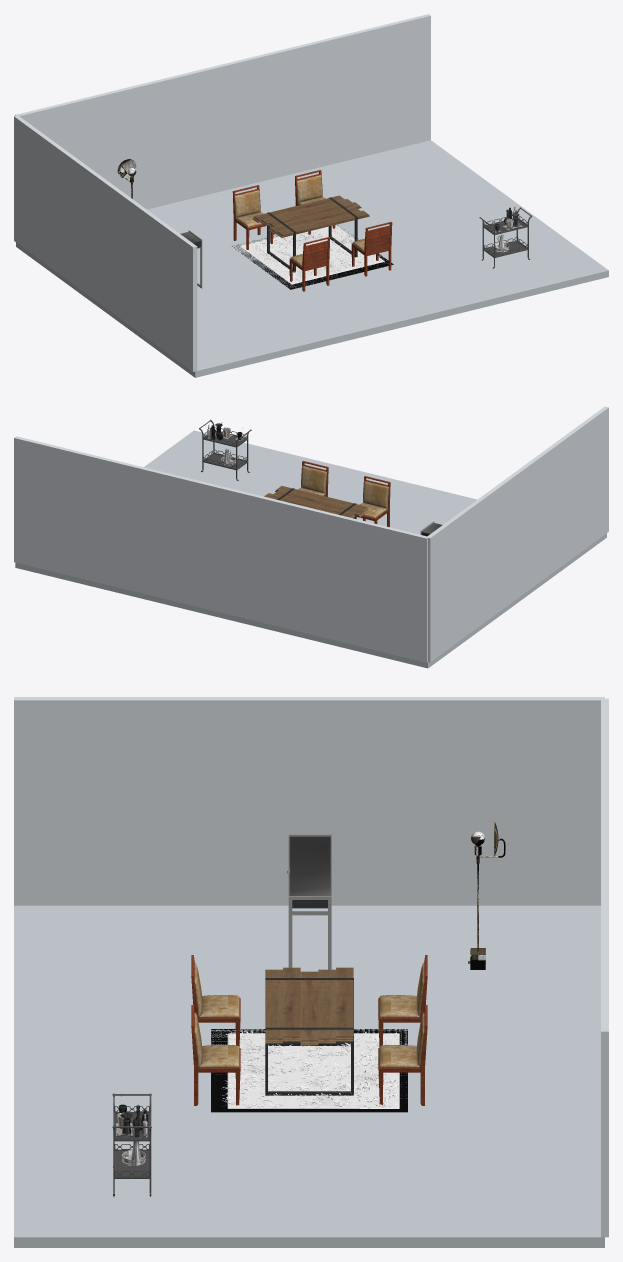
File: stage3.glb
The picture shows the model from 3 angles, top to bottom: view 1: azimuth 30°, elevation 25°; view 2: azimuth 150°, elevation 25°; view 3: azimuth 270°, elevation 25°; orthographic projection. The views are drawn at different scales.
Parts seen in each view (by area): view 1: Floor, wall_back, wall_left, raw_model.004, raw_model, raw_model.002, solid_001.001, solid_001, solid_002.003, solid_002.002, solid_001.003; view 2: wall_back, wall_left, Floor, raw_model.002, raw_model, solid_002.001, solid_002, solid_001.001; view 3: Floor, wall_left, raw_model.004, raw_model, wall_back, raw_model.001, raw_model.002, solid_002.003, solid_002.002, solid_002, solid_002.001, raw_model.003 (+2 smaller).
Boxes of the visible parts, x1=… form: Floor: x1=16, y1=140, x2=608, y2=377; wall_back: x1=15, y1=14, x2=430, y2=209; wall_left: x1=14, y1=116, x2=197, y2=371; raw_model.004: x1=232, y1=225, x2=393, y2=289; raw_model: x1=252, y1=195, x2=369, y2=272; raw_model.002: x1=479, y1=206, x2=532, y2=268; solid_001.001: x1=289, y1=237, x2=330, y2=291; solid_001: x1=351, y1=221, x2=392, y2=276; solid_002.003: x1=234, y1=190, x2=263, y2=227; solid_002.002: x1=296, y1=175, x2=325, y2=204; solid_001.003: x1=232, y1=185, x2=273, y2=249; wall_back: x1=14, y1=436, x2=428, y2=662; wall_left: x1=427, y1=406, x2=608, y2=662; Floor: x1=15, y1=430, x2=606, y2=668; raw_model.002: x1=199, y1=419, x2=251, y2=480; raw_model: x1=264, y1=486, x2=368, y2=518; solid_002.001: x1=360, y1=481, x2=388, y2=517; solid_002: x1=298, y1=466, x2=326, y2=495; solid_001.001: x1=360, y1=476, x2=390, y2=527; Floor: x1=14, y1=905, x2=604, y2=1247; wall_left: x1=14, y1=697, x2=604, y2=905; raw_model.004: x1=211, y1=1029, x2=407, y2=1112; raw_model: x1=265, y1=967, x2=353, y2=1095; wall_back: x1=601, y1=698, x2=608, y2=1237; raw_model.001: x1=287, y1=834, x2=331, y2=969; raw_model.002: x1=112, y1=1093, x2=151, y2=1197; solid_002.003: x1=379, y1=963, x2=424, y2=1017; solid_002.002: x1=379, y1=1013, x2=424, y2=1067; solid_002: x1=194, y1=1013, x2=239, y2=1067; solid_002.001: x1=194, y1=963, x2=239, y2=1017; raw_model.003: x1=468, y1=822, x2=505, y2=969.
Size of the model in its own units: 8.04 by 2.42 by 6.04.
Materials: 11 (9 with a texture image).
